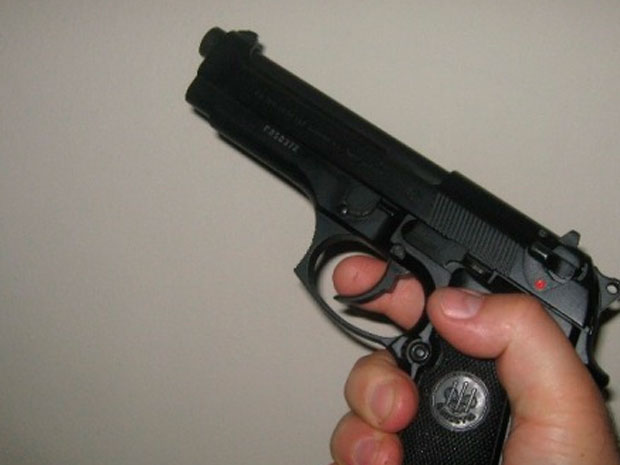Arma Real: (179, 23, 620, 459)
